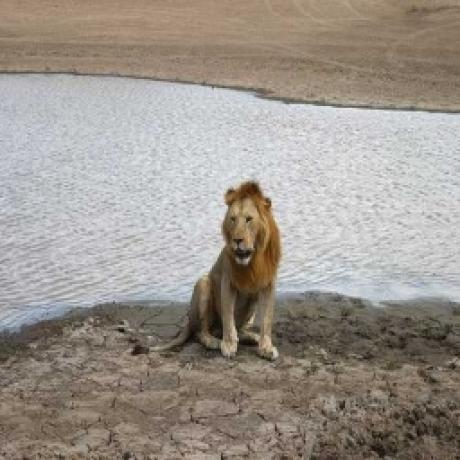Lion: (135, 180, 289, 363)
